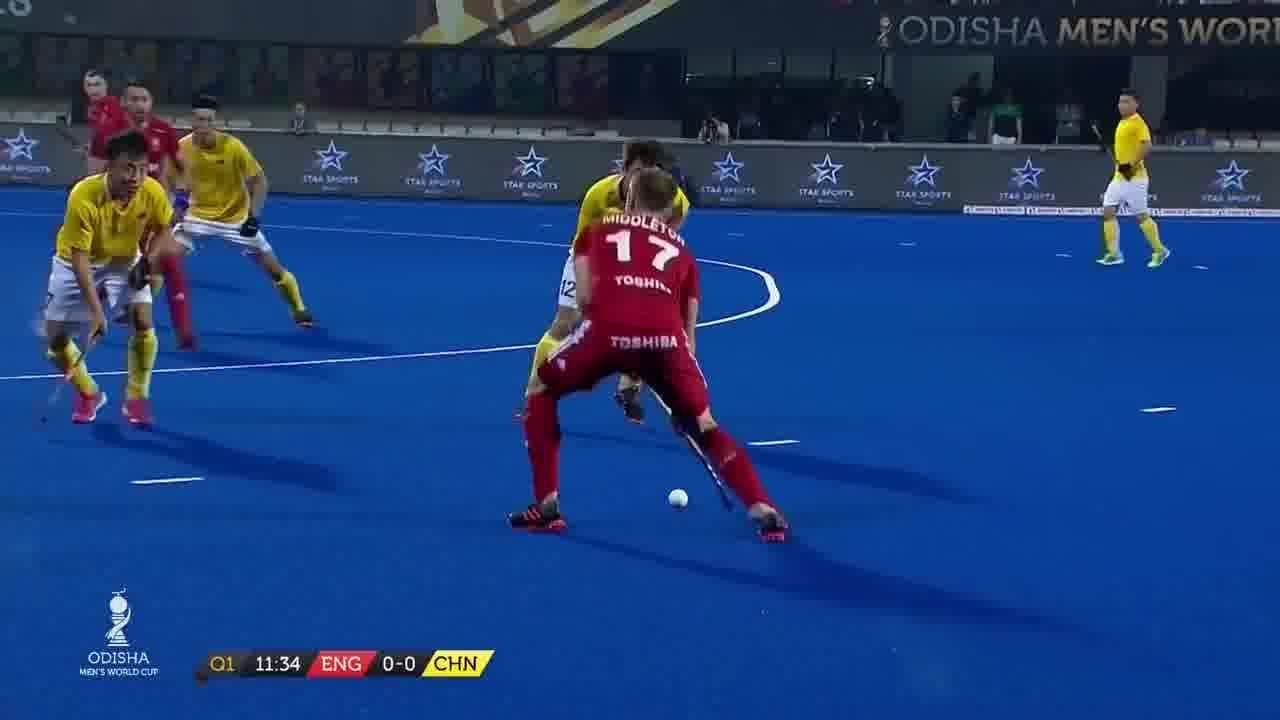ball: (670, 480, 690, 516)
